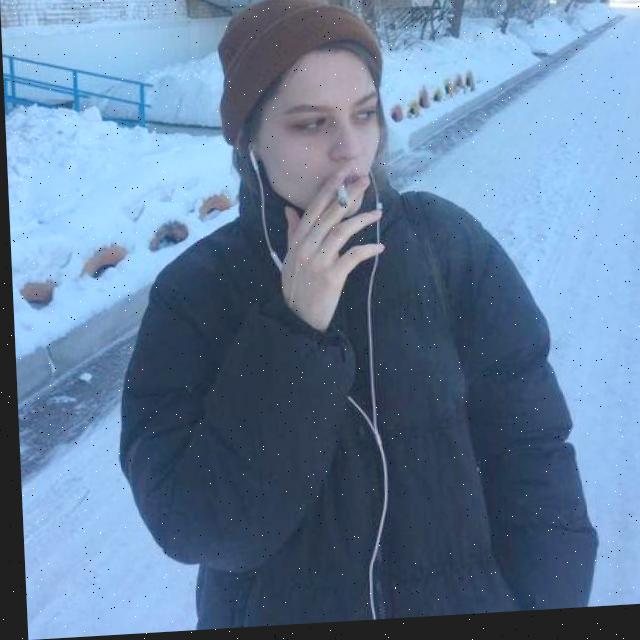cigarette: (335, 188, 347, 215)
